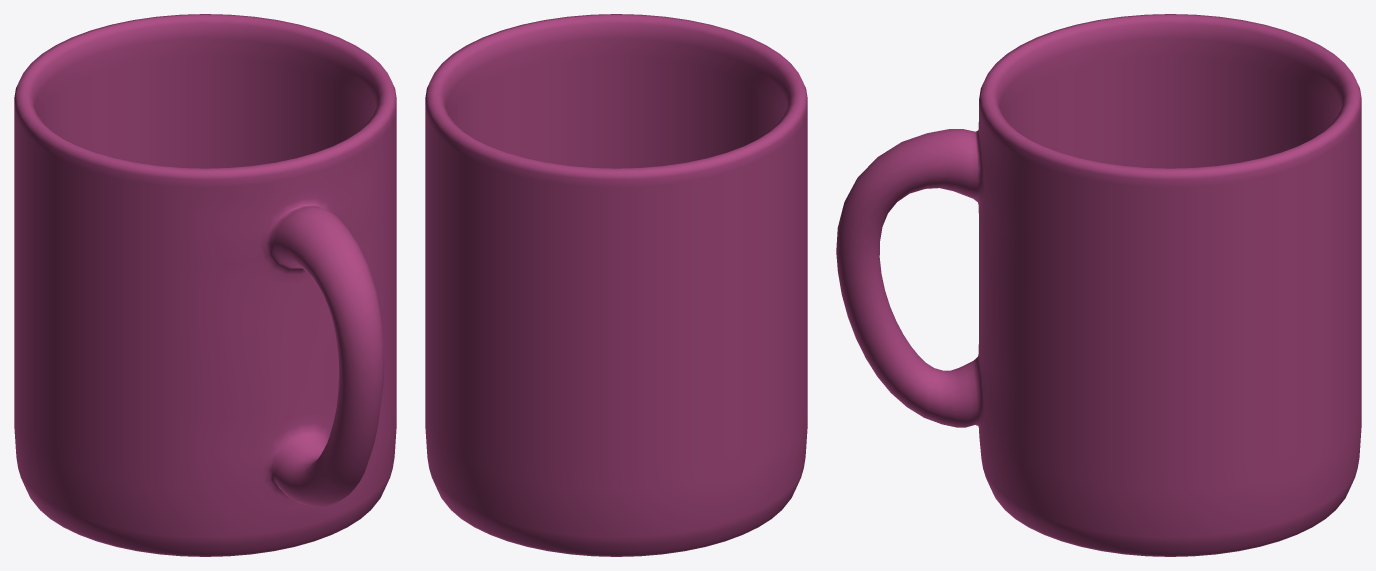
File: mug_V1.fbx
The picture shows the model from 3 angles, left to right: view 1: azimuth 30°, elevation 25°; view 2: azimuth 150°, elevation 25°; view 3: azimuth 270°, elevation 25°; orthographic projection.
Visible parts, largest first — view 1: mug_GEO_001; view 2: mug_GEO_001; view 3: mug_GEO_001.
Part boxes in pixels (x1,y1,x2,y2): mug_GEO_001: [14, 14, 396, 556]; mug_GEO_001: [425, 14, 807, 556]; mug_GEO_001: [836, 14, 1361, 556].
Bounding box in the file's own units: 9.17 × 10.32 × 12.59.
